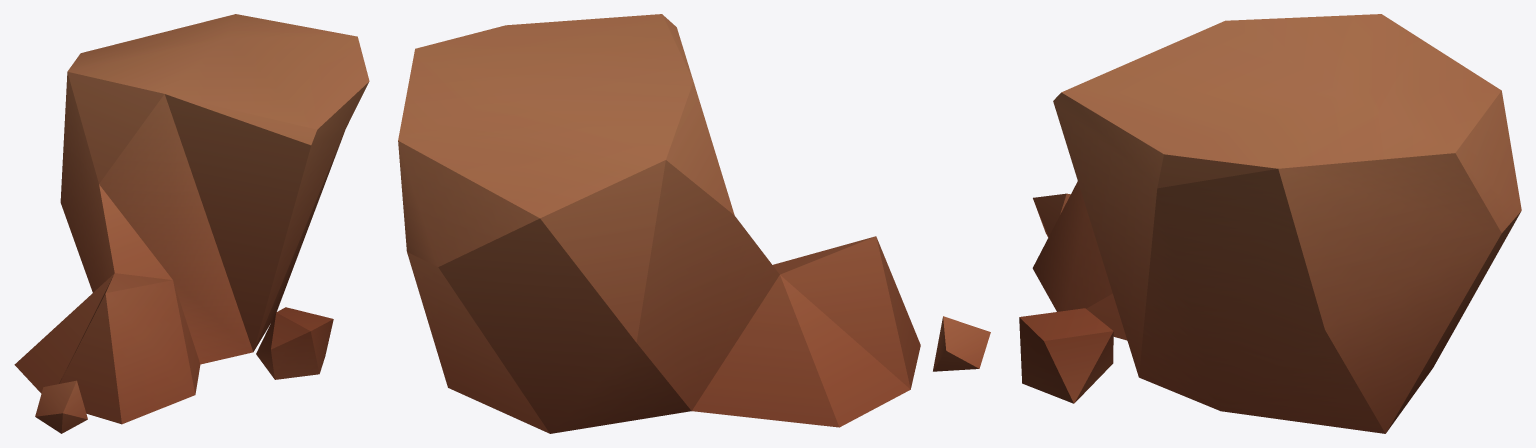
Rendered from Rock_003.fbx.
3 views of the same model, side by side, from view 1: azimuth 30°, elevation 25°; view 2: azimuth 150°, elevation 25°; view 3: azimuth 270°, elevation 25° (orthographic). The views are drawn at different scales.
Parts seen in each view (by area): view 1: ROCK-SMALL; view 2: ROCK-SMALL; view 3: ROCK-SMALL.
Part boxes in pixels (x1,y1,x2,y2): ROCK-SMALL: (14,14,369,433); ROCK-SMALL: (398,14,990,433); ROCK-SMALL: (1019,14,1521,433).
Bounding box in the file's own units: 185 × 110 × 155.
